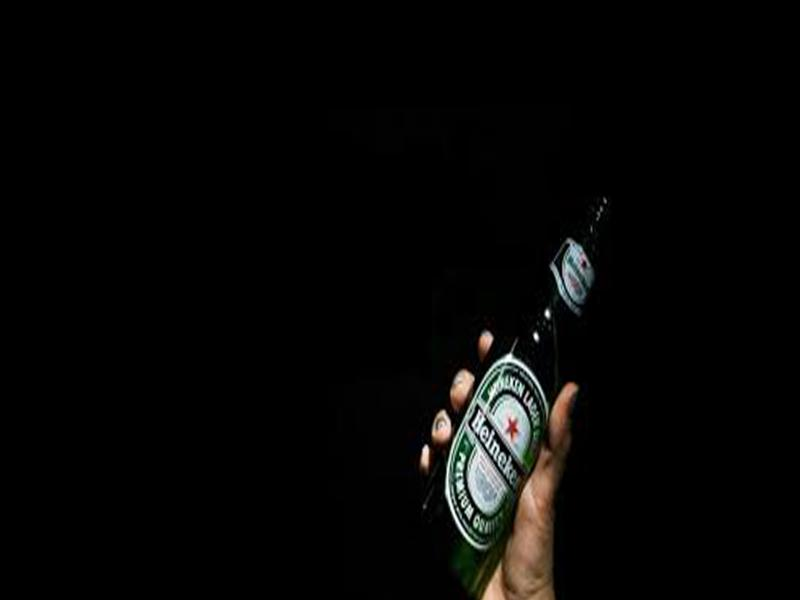Beer: (410, 180, 620, 600)
